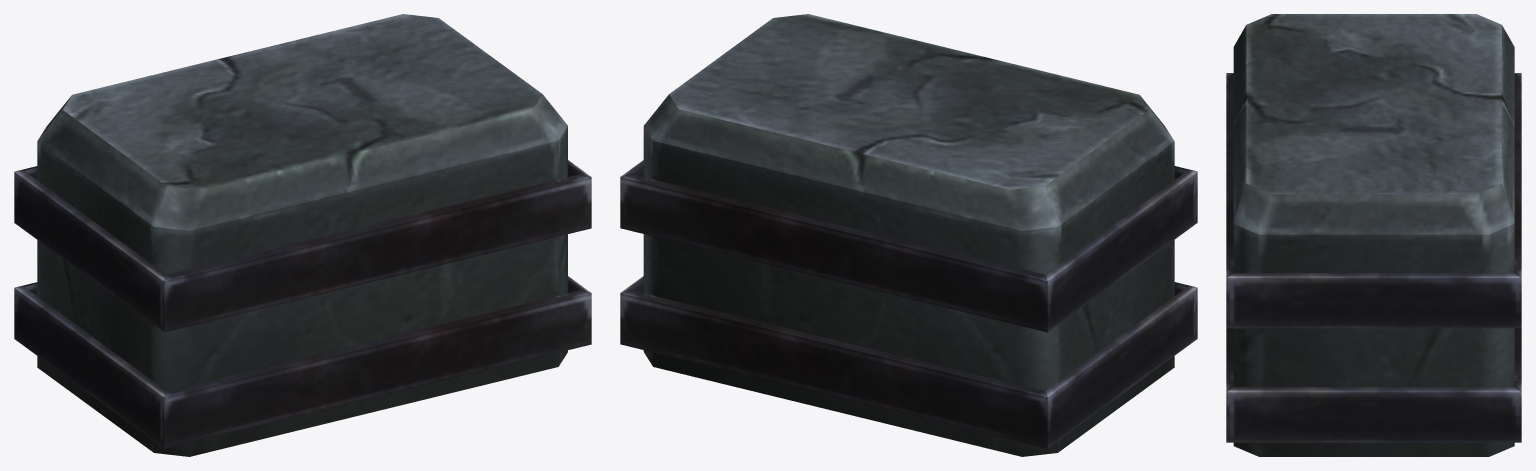
The model's file is B_shikuai020.fbx.
3 renders of one model, left to right at view 1: azimuth 30°, elevation 25°; view 2: azimuth 150°, elevation 25°; view 3: azimuth 270°, elevation 25°, orthographic.
Visible parts, largest first — view 1: B_shikuai020; view 2: B_shikuai020; view 3: B_shikuai020.
Boxes of the visible parts, <box> form: B_shikuai020: <box>14,14,591,456</box>; B_shikuai020: <box>620,14,1197,456</box>; B_shikuai020: <box>1226,14,1521,456</box>.
Bounding box in the file's own units: 117 × 67.43 × 71.18.
